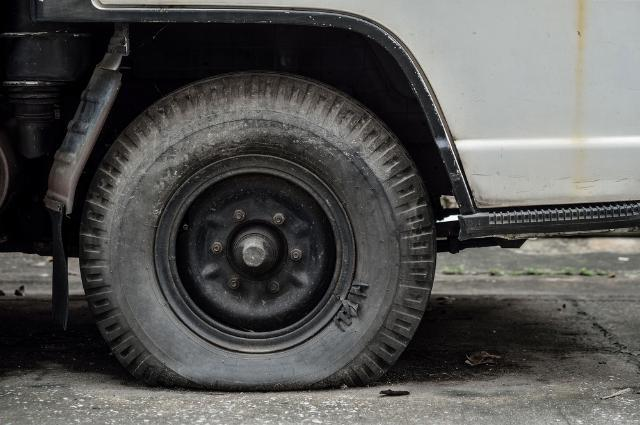tire flat: (79, 67, 439, 394)
